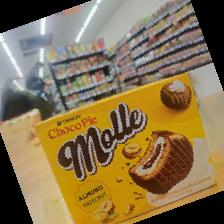Molle: (31, 71, 218, 224)
